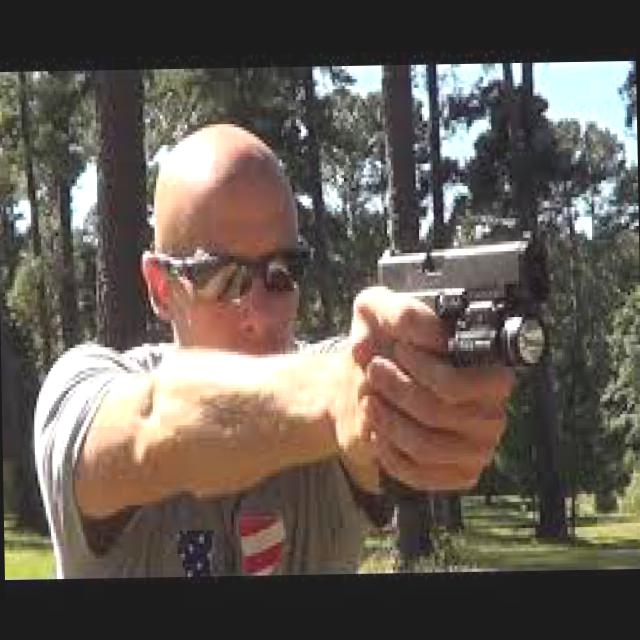handgun: (369, 227, 552, 510)
